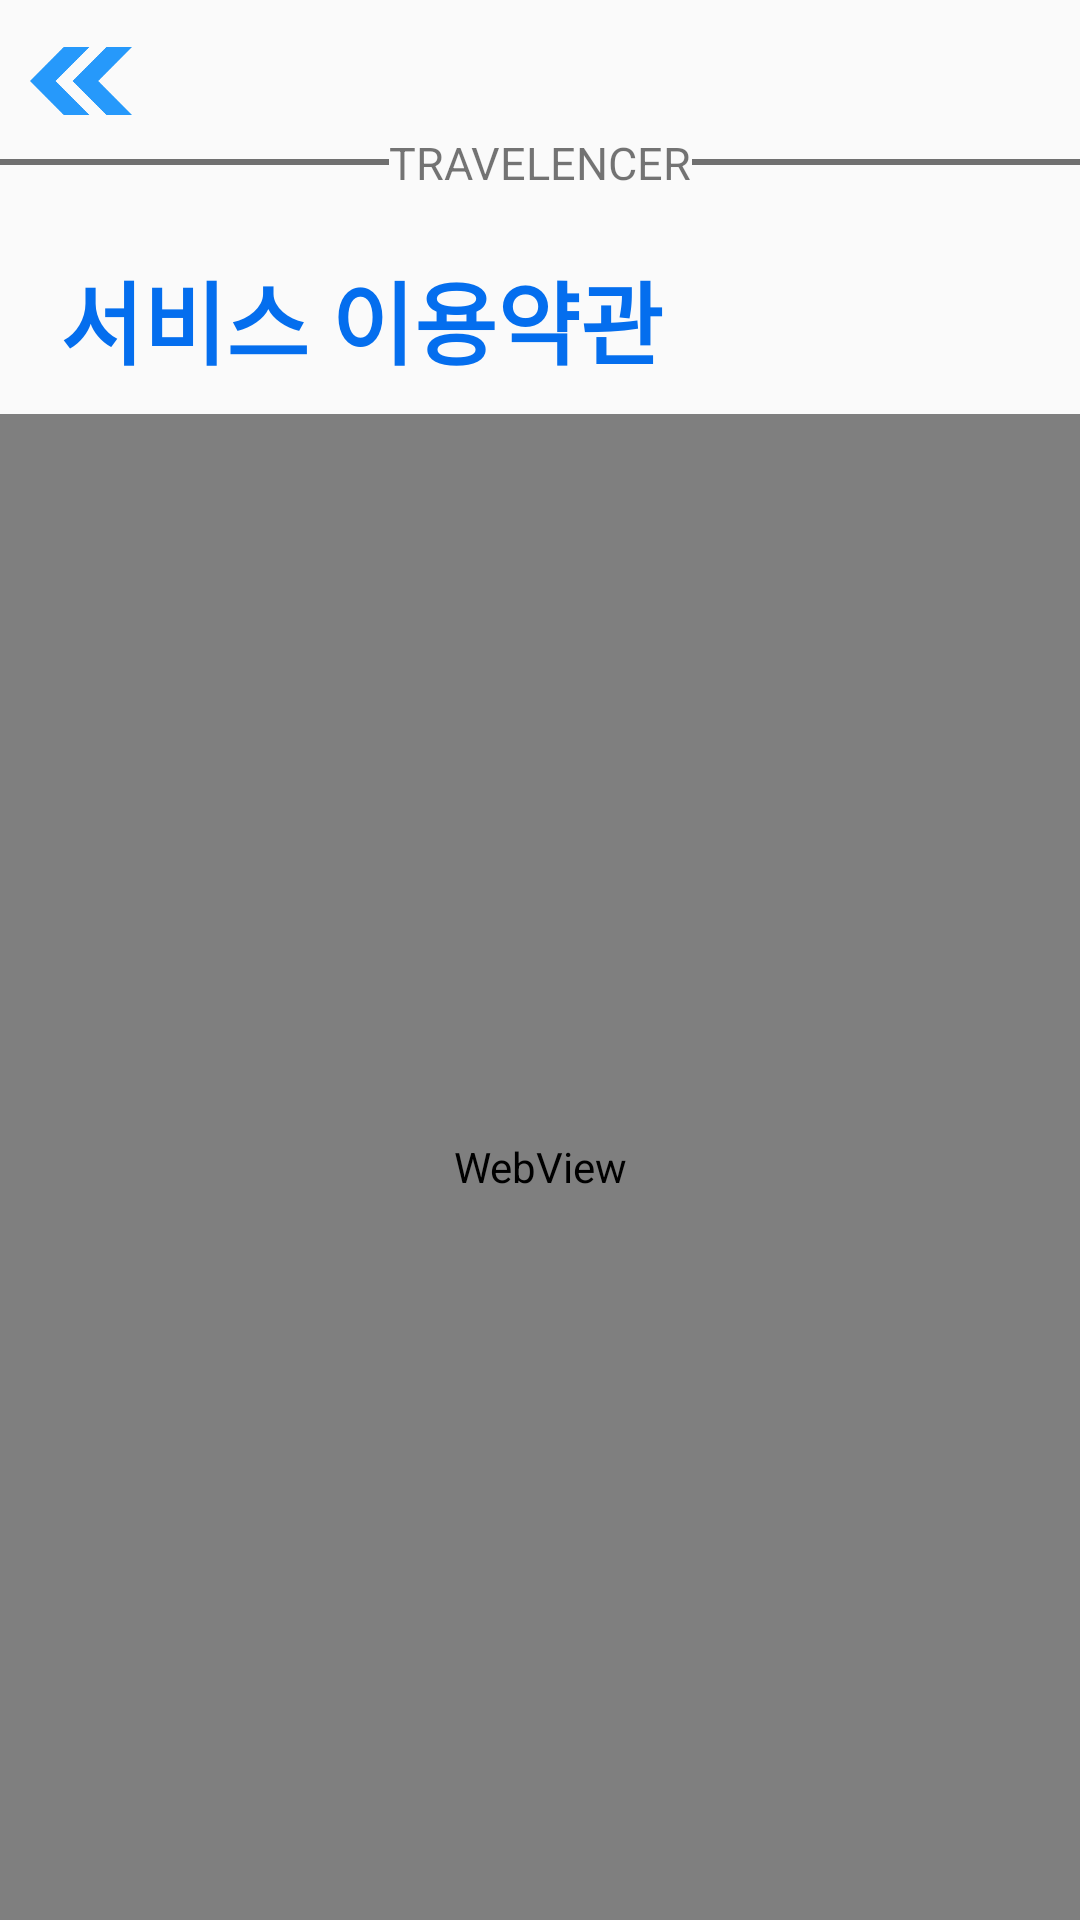

Screen size 1080px x 1920px. Icon name, then its center in pixels as (x=x, y=y):
double arrow: (x=81, y=81)
